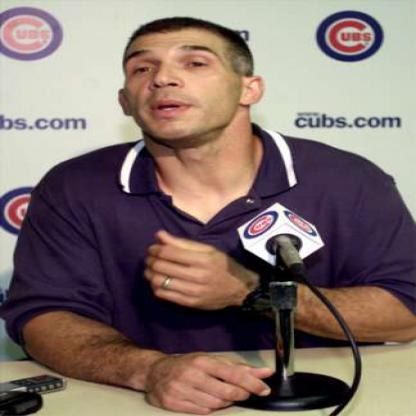face: (117, 22, 248, 144)
